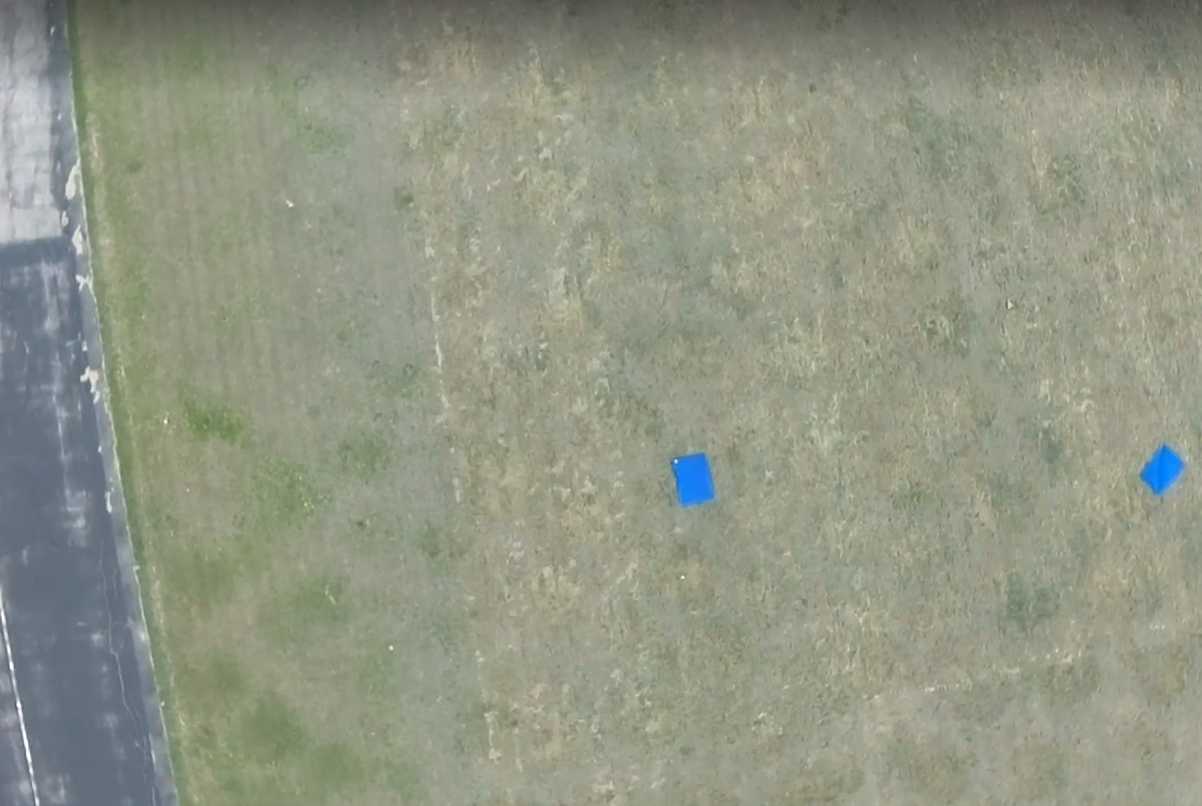TOI: (668, 452, 717, 506), (1138, 442, 1186, 495)
